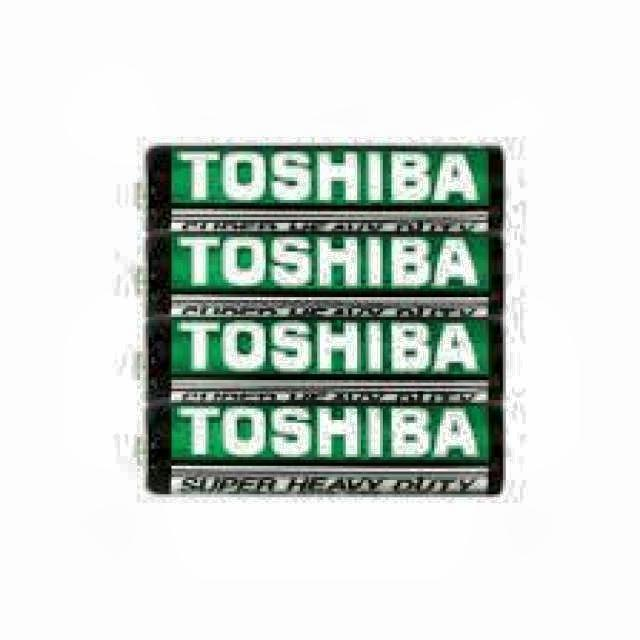battery: (134, 404, 505, 498), (135, 143, 509, 235), (134, 234, 506, 318)
